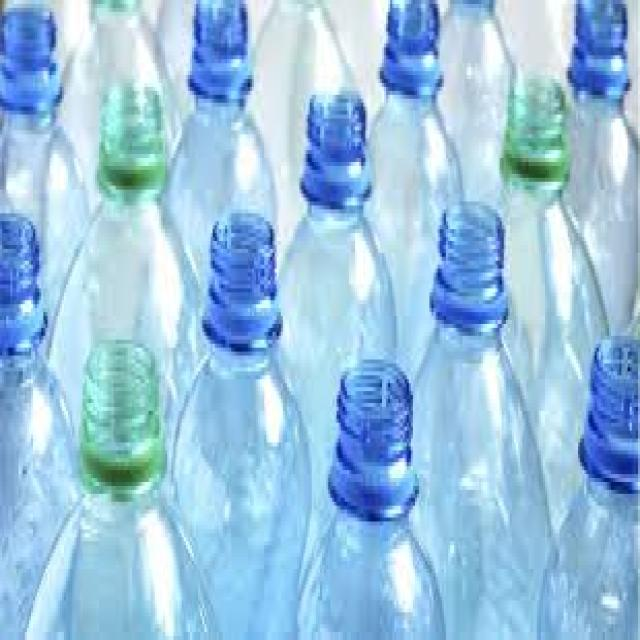no_cap: (81, 328, 166, 520), (332, 366, 421, 536), (206, 210, 287, 382), (425, 196, 507, 332), (299, 78, 375, 218), (187, 2, 266, 134), (575, 336, 640, 496), (0, 3, 68, 135), (502, 72, 571, 202), (378, 0, 453, 118), (565, 0, 640, 118), (98, 82, 167, 206), (0, 197, 41, 373)
